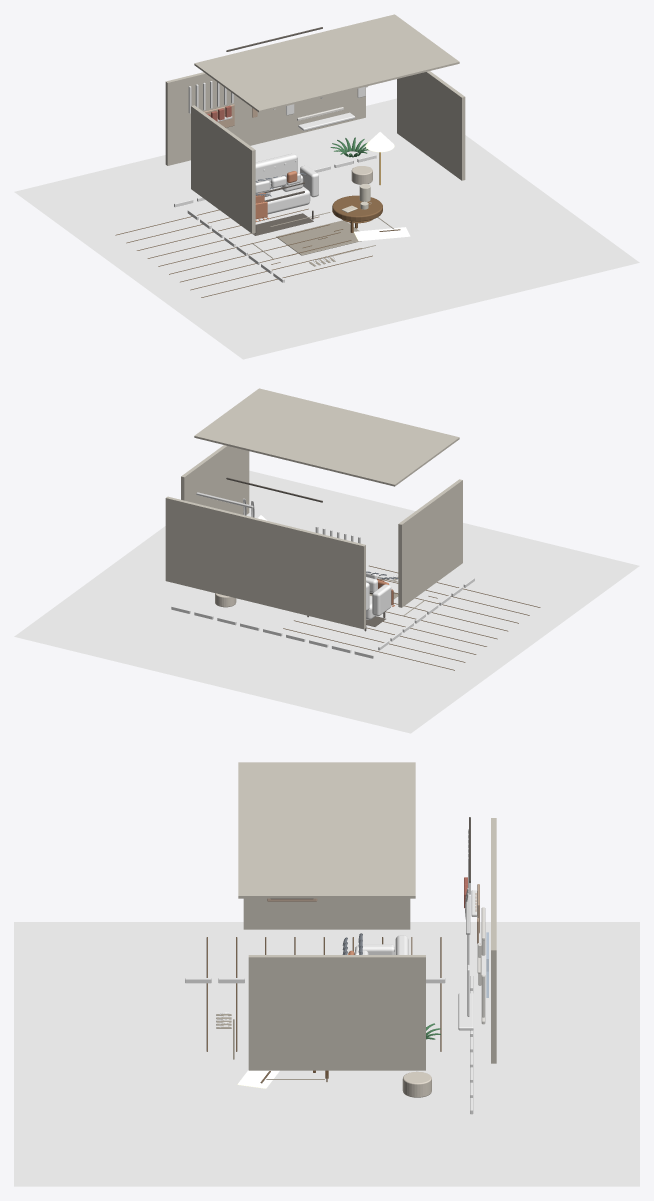
The picture shows the model from 3 angles, top to bottom: view 1: azimuth 30°, elevation 25°; view 2: azimuth 150°, elevation 25°; view 3: azimuth 270°, elevation 25°; orthographic projection. The views are drawn at different scales.
Visible parts, largest first — view 1: oak_floor_plane, ceiling_plane_warm_white, back_wall_plaster, left_wall_plaster, right_wall_shadow_plaster, woven_rug_rectangle, coffee_table_round_wood, sofa_back_fabric, sofa_base_fabric, sofa_contact_shadow_floor, sun_patch_window_light_floor; view 2: oak_floor_plane, back_wall_plaster, ceiling_plane_warm_white, left_wall_plaster, right_wall_shadow_plaster, sofa_arm_left_fabric; view 3: oak_floor_plane, ceiling_plane_warm_white, right_wall_shadow_plaster, left_wall_plaster, back_wall_plaster, plant_pot_ceramic.
Boxes of the visible parts, x1,y1,x2,y2 form: oak_floor_plane: (14,98,639,359); ceiling_plane_warm_white: (194,14,459,112); back_wall_plaster: (165,72,365,165); left_wall_plaster: (191,105,255,233); right_wall_shadow_plaster: (397,71,465,180); woven_rug_rectangle: (276,220,361,255); coffee_table_round_wood: (332,195,382,221); sofa_back_fabric: (255,153,297,187); sofa_base_fabric: (264,186,310,214); sofa_contact_shadow_floor: (252,213,313,235); sun_patch_window_light_floor: (354,227,410,241); oak_floor_plane: (14,470,639,733); back_wall_plaster: (165,496,365,629); ceiling_plane_warm_white: (194,388,459,486); left_wall_plaster: (398,479,462,607); right_wall_shadow_plaster: (181,445,249,514); sofa_arm_left_fabric: (372,584,391,616); oak_floor_plane: (14,922,639,1186); ceiling_plane_warm_white: (238,762,415,898); right_wall_shadow_plaster: (248,955,425,1070); left_wall_plaster: (243,898,410,929); back_wall_plaster: (491,818,496,1063); plant_pot_ceramic: (402,1071,431,1097).
Bounding box in the file's own units: 9 × 3.57 × 9.
